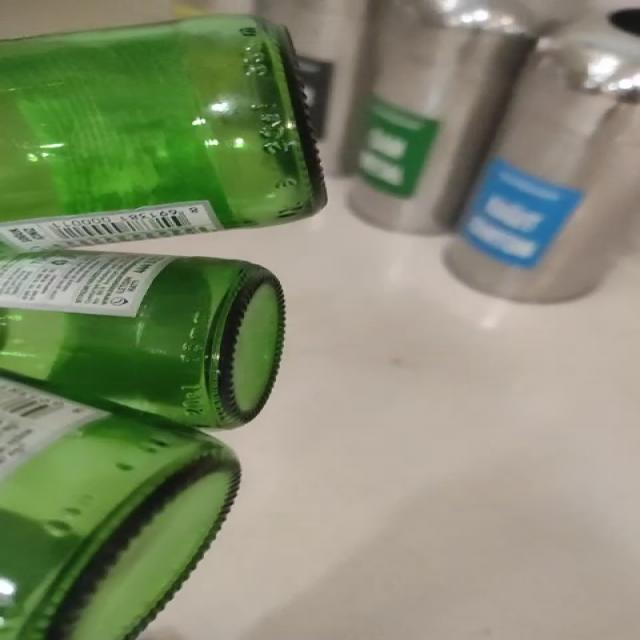glass: (1, 14, 325, 640)
